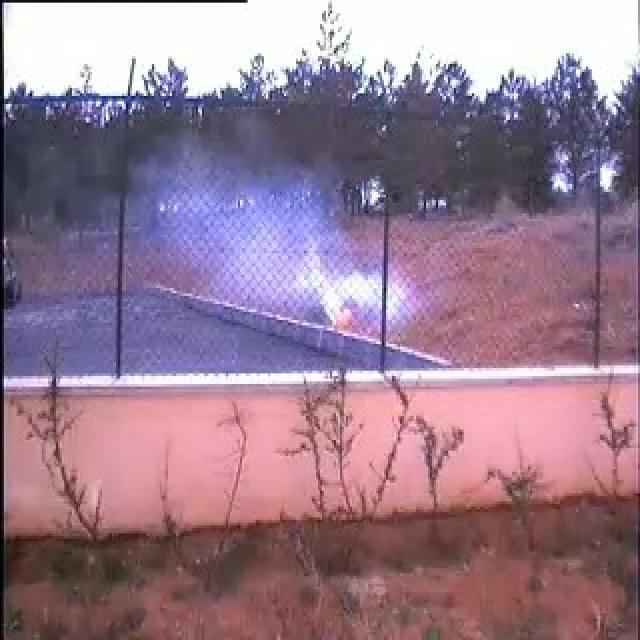smoke: (130, 150, 413, 358)
